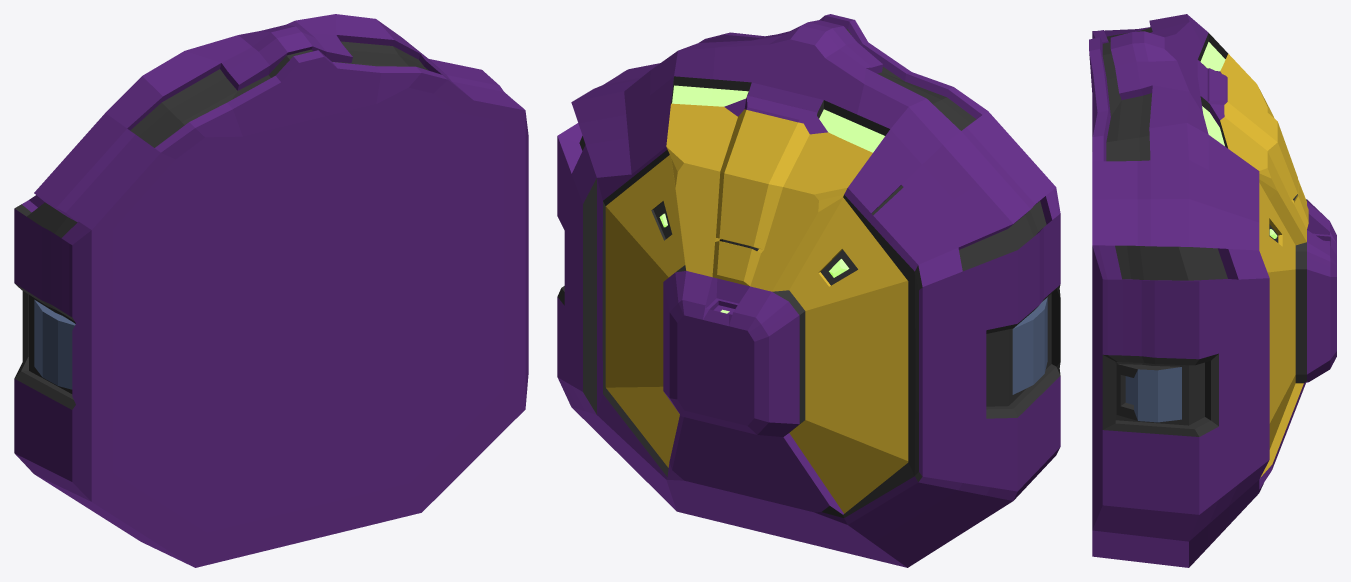
The model's file is Mech_Burger TOP.fbx.
The picture shows the model from 3 angles, left to right: view 1: azimuth 30°, elevation 25°; view 2: azimuth 150°, elevation 25°; view 3: azimuth 270°, elevation 25°; orthographic projection. The views are drawn at different scales.
Parts seen in each view (by area): view 1: Burger Bread Down; view 2: Burger Bread Down; view 3: Burger Bread Down.
Boxes of the visible parts, x1=… form: Burger Bread Down: x1=14, y1=14, x2=528, y2=567; Burger Bread Down: x1=557, y1=14, x2=1060, y2=567; Burger Bread Down: x1=1089, y1=14, x2=1336, y2=567.
Size of the model in its own units: 74.1 by 75.63 by 35.55.
